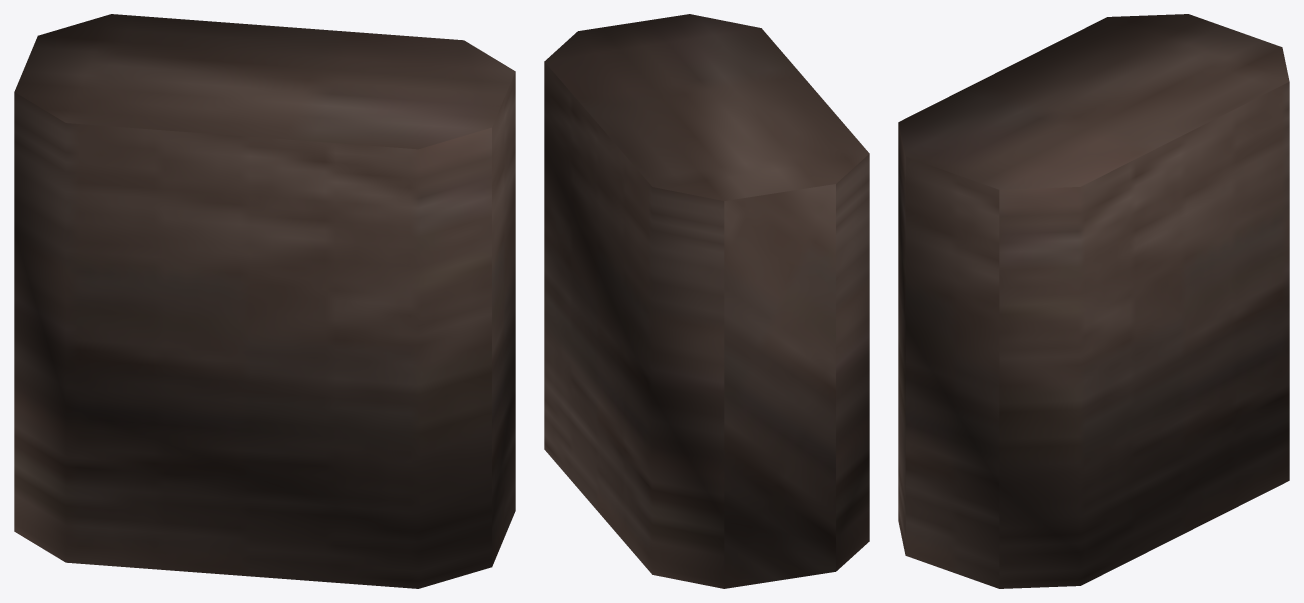
3 renders of one model, left to right at view 1: azimuth 30°, elevation 25°; view 2: azimuth 150°, elevation 25°; view 3: azimuth 270°, elevation 25°, orthographic. The views are drawn at different scales.
Parts seen in each view (by area): view 1: Paper_rolls001_Hygiene_0; view 2: Paper_rolls001_Hygiene_0; view 3: Paper_rolls001_Hygiene_0.
Boxes of the visible parts, box(x1,y1,x2,y2) form: Paper_rolls001_Hygiene_0: box(14, 14, 515, 588); Paper_rolls001_Hygiene_0: box(544, 14, 869, 588); Paper_rolls001_Hygiene_0: box(898, 14, 1289, 588).
Bounding box in the file's own units: 0.2901 × 0.307 × 0.2727.
1 material, 1 textured.
